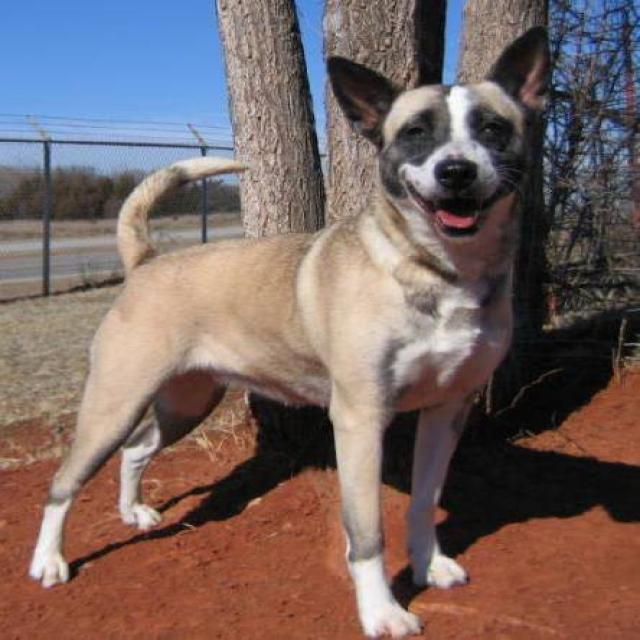dog: (26, 24, 553, 639)
